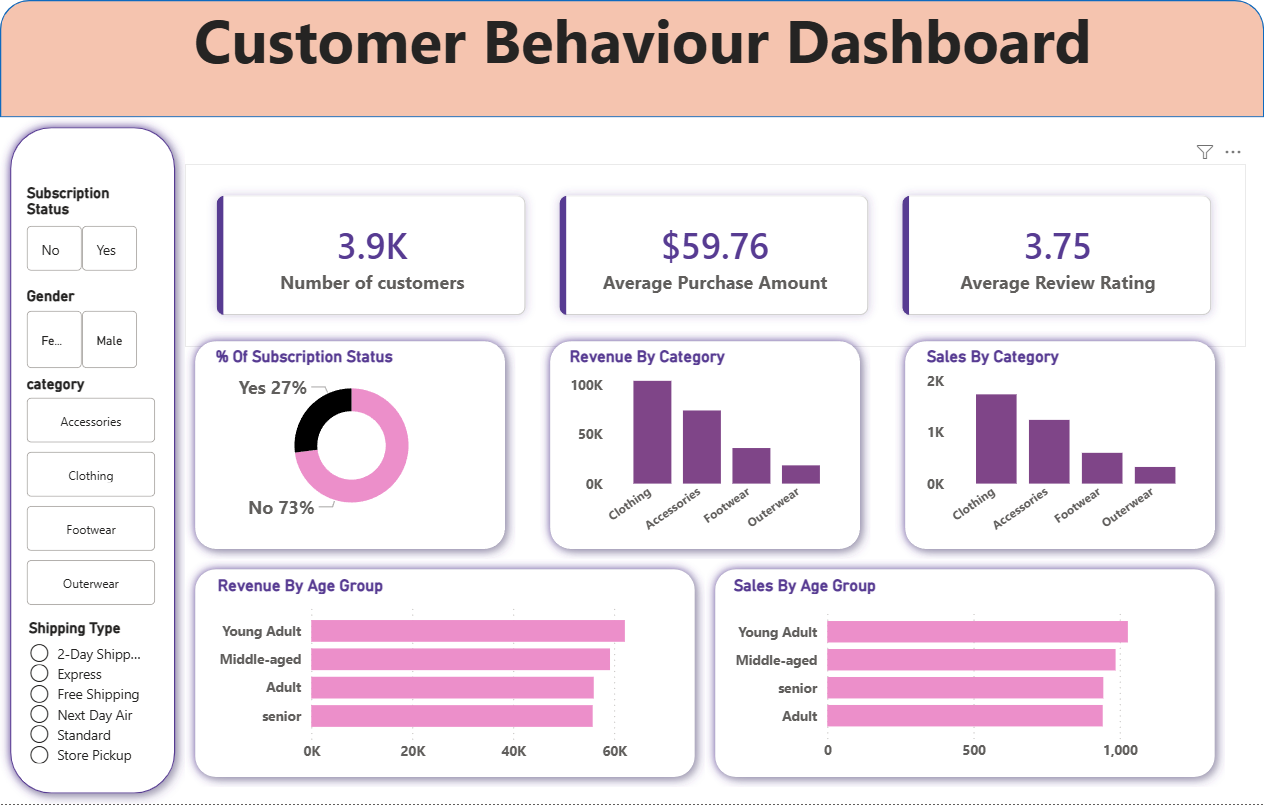

Layout of this report page (visuals, bound fields, positions):
{"tool":"powerbi","page":{"name":"Page 1","canvas":[1121,720],"ordinal":0},"visuals":[{"type":"cardVisual","fields":{"Data":["public customer.Number of customers","public customer.Average Purchase Amount","public customer.Average Review Rating"]},"box":[164.4,152.7,940.5,162.4],"z":0},{"type":"shape","box":[0,6.8,1120.8,104.2],"z":1000},{"type":"textbox","box":[0,0,1140.1,95.1],"z":2000},{"type":"shape","box":[164.4,300.5,292.8,202.3],"z":3000},{"type":"donutChart","title":"% Of Subscription Status","fields":{"Category":["public customer.subscription_status"],"Y":["CountNonNull(public customer.customer_id)"]},"box":[185.8,315.1,250.9,158.5],"z":4000},{"type":"shape","box":[478.5,300.5,292.8,202.3],"z":5000},{"type":"shape","box":[793.7,300.5,292.8,202.3],"z":6000},{"type":"clusteredColumnChart","title":"Revenue By Category","fields":{"Y":["Sum(public customer.purchase_amount)"],"Category":["public customer.category"]},"box":[499.9,315.1,250.9,173.1],"z":7000},{"type":"clusteredColumnChart","title":"Sales By Category","fields":{"Y":["CountNonNull(public customer.customer_id)"],"Category":["public customer.category"]},"box":[817,315.1,250.9,173.1],"z":8000},{"type":"shape","box":[0,110.9,164.4,608.9],"z":9000},{"type":"advancedSlicerVisual","fields":{"Values":["public customer.subscription_status"]},"box":[18.5,170.2,108.9,82.7],"z":10000},{"type":"advancedSlicerVisual","fields":{"Values":["public customer.gender"]},"box":[18.5,261.6,108.9,77.8],"z":11000},{"type":"advancedSlicerVisual","fields":{"Values":["public customer.category"]},"box":[18.5,339.5,124.5,210.1],"z":12000},{"type":"listSlicer","fields":{"Values":["public customer.shipping_type"]},"box":[20.4,556.4,124.5,133.3],"z":13000},{"type":"shape","box":[625.4,502.9,461,202.3],"z":14000},{"type":"clusteredBarChart","title":"Sales By Age Group","fields":{"Y":["CountNonNull(public customer.customer_id)"],"Category":["public customer.age_group"]},"box":[645.8,517.4,420.2,173.1],"z":15000},{"type":"shape","box":[164.4,502.9,461,202.3],"z":16000},{"type":"clusteredBarChart","title":"Revenue By Age Group","fields":{"Y":["Sum(public customer.purchase_amount)"],"Category":["public customer.age_group"]},"box":[188.3,517.6,417.3,173.7],"z":17000}]}

Visuals, with their boxes in screenshot pixels (x1, y1, x2, y2), scaled from the page's 1121x720 canvas onto the 1264x805 screenshot:
cardVisual - public customer.Number of customers x public customer.Average Purchase Amount: 185, 171, 1246, 352
shape: 0, 8, 1263, 124
textbox: 0, 0, 1263, 106
shape: 185, 336, 516, 562
"% Of Subscription Status" donutChart: 210, 352, 492, 530
shape: 540, 336, 870, 562
shape: 895, 336, 1225, 562
"Revenue By Category" clusteredColumnChart: 564, 352, 847, 546
"Sales By Category" clusteredColumnChart: 921, 352, 1204, 546
shape: 0, 124, 185, 804
advancedSlicerVisual - public customer.subscription_status: 21, 190, 144, 283
advancedSlicerVisual - public customer.gender: 21, 292, 144, 379
advancedSlicerVisual - public customer.category: 21, 380, 161, 614
listSlicer - public customer.shipping_type: 23, 622, 163, 771
shape: 705, 562, 1225, 788
"Sales By Age Group" clusteredBarChart: 728, 578, 1202, 772
shape: 185, 562, 705, 788
"Revenue By Age Group" clusteredBarChart: 212, 579, 683, 773
